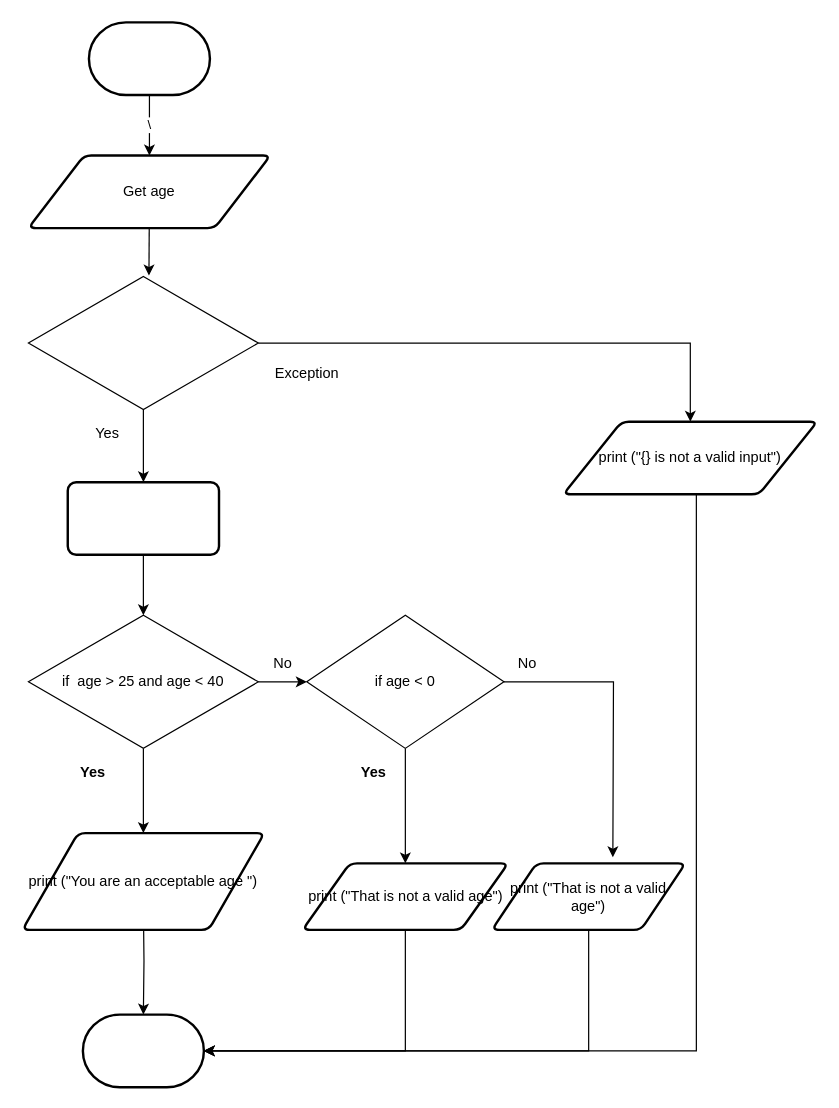
Image size: 839x1108. Some labels were removed from this diagram. Here are the shapes that lost their labels. From the top down, the box of each, then its label:
(87, 21, 211, 96): Start
(27, 275, 258, 410): try
(66, 480, 220, 555): convert string to int
(81, 1013, 204, 1088): Stop
